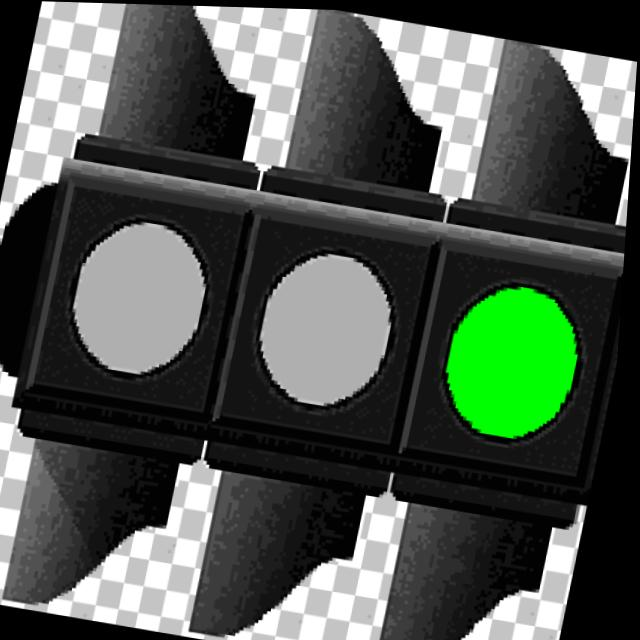green_light: (430, 222, 629, 462)
